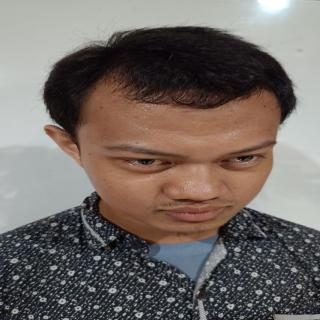Marah: (71, 72, 286, 237)
